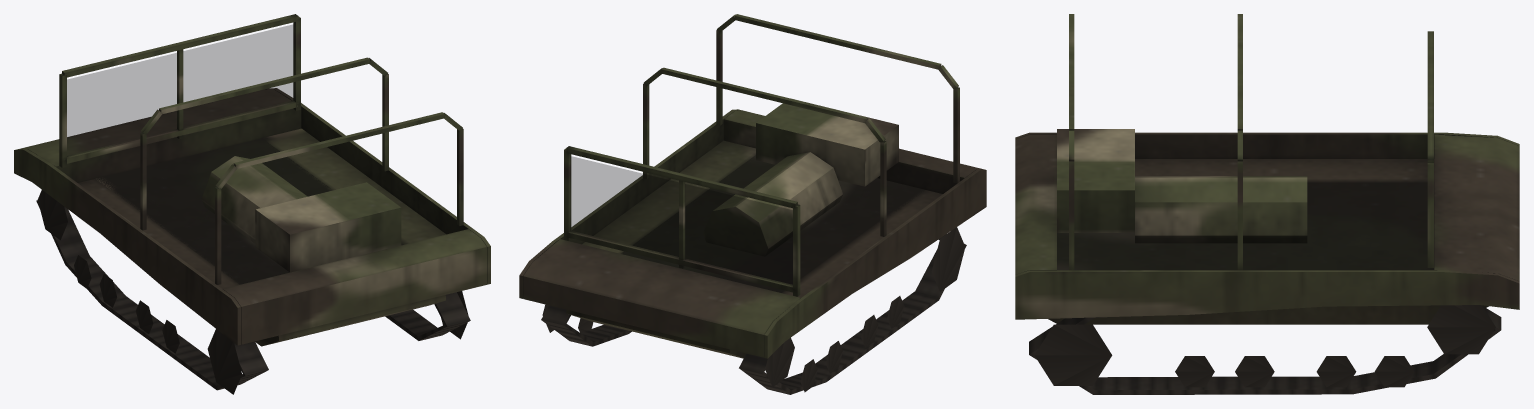
3 renders of one model, left to right at view 1: azimuth 30°, elevation 25°; view 2: azimuth 150°, elevation 25°; view 3: azimuth 270°, elevation 25°, orthographic. The views are drawn at different scales.
Visible parts, largest first — view 1: Chassis, Chenille_Gauche_01, Chenille_Droite_01, Roue_G6, Roue_G1; view 2: Chassis, Chenille_Gauche_01, Chenille_Droite_01, Roue_G6, Roue_G1; view 3: Chassis, Chenille_Droite_01, Roue_D6, Roue_D1, Roue_D2, Roue_D3, Roue_D4, Roue_D5.
Part boxes in pixels (box(x1,y1,x2,y2)): Chassis: box(14, 14, 490, 346); Chenille_Gauche_01: box(36, 200, 268, 390); Chenille_Droite_01: box(385, 292, 470, 340); Roue_G6: box(207, 329, 241, 394); Roue_G1: box(37, 190, 67, 240); Chassis: box(519, 14, 986, 358); Chenille_Gauche_01: box(739, 234, 966, 394); Chenille_Droite_01: box(541, 305, 631, 346); Roue_G6: box(931, 227, 965, 291); Roue_G1: box(765, 337, 794, 387); Chassis: box(1015, 14, 1519, 324); Chenille_Droite_01: box(1029, 306, 1501, 394); Roue_D6: box(1034, 324, 1112, 385); Roue_D1: box(1427, 305, 1495, 354); Roue_D2: box(1374, 356, 1414, 387); Roue_D3: box(1316, 356, 1356, 387); Roue_D4: box(1235, 356, 1274, 387); Roue_D5: box(1175, 356, 1214, 387).
Bounding box in the file's own units: 182 × 278 × 159.
2 materials, 1 textured.
